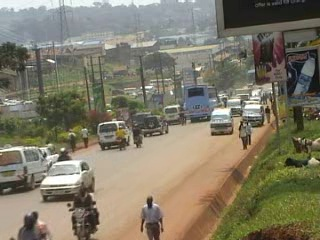Car: (39, 157, 95, 203), (140, 113, 170, 138), (37, 143, 60, 167)
Motorcycle: (66, 182, 101, 240), (9, 208, 54, 239), (114, 121, 127, 151), (131, 122, 144, 148), (176, 105, 189, 125), (56, 147, 74, 161)
